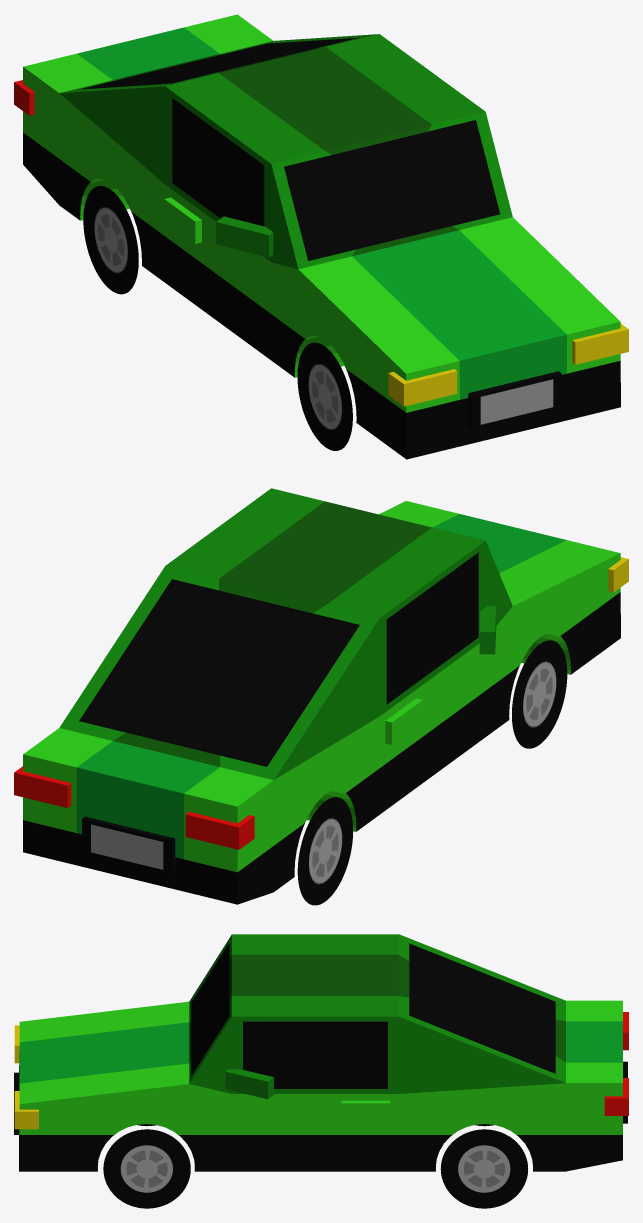
Rendered from Mobil_3_Hijau_D.fbx.
3 views of the same model, one above another, from view 1: azimuth 30°, elevation 25°; view 2: azimuth 150°, elevation 25°; view 3: azimuth 270°, elevation 25° (orthographic). The views are drawn at different scales.
Parts seen in each view (by area): view 1: Mobil2.002; view 2: Mobil2.002; view 3: Mobil2.002.
Part boxes in pixels (x1,y1,x2,y2): Mobil2.002: [14, 14, 628, 459]; Mobil2.002: [14, 488, 628, 905]; Mobil2.002: [14, 934, 628, 1208].
Bounding box in the file's own units: 521 × 435 × 1261.
Materials: 5 (3 with a texture image).
